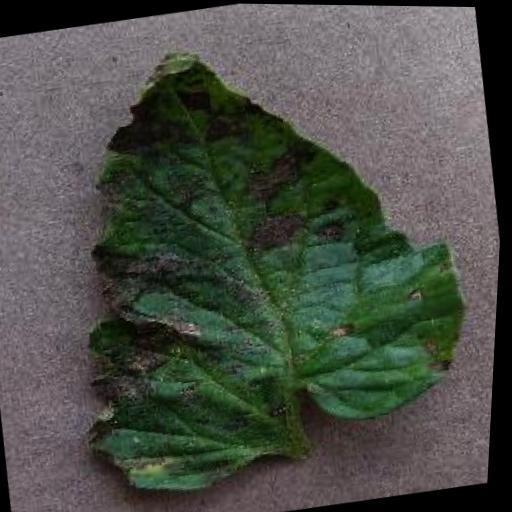Early Blight: (32, 10, 506, 512)
